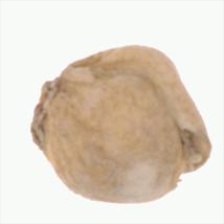L1: (170, 127, 210, 189), (32, 71, 59, 135)
L2: (30, 44, 211, 203)
